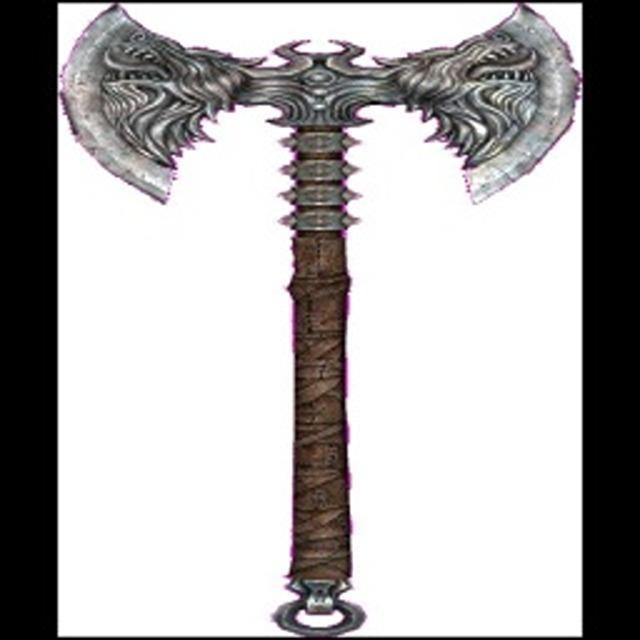ax: (55, 0, 579, 639)
